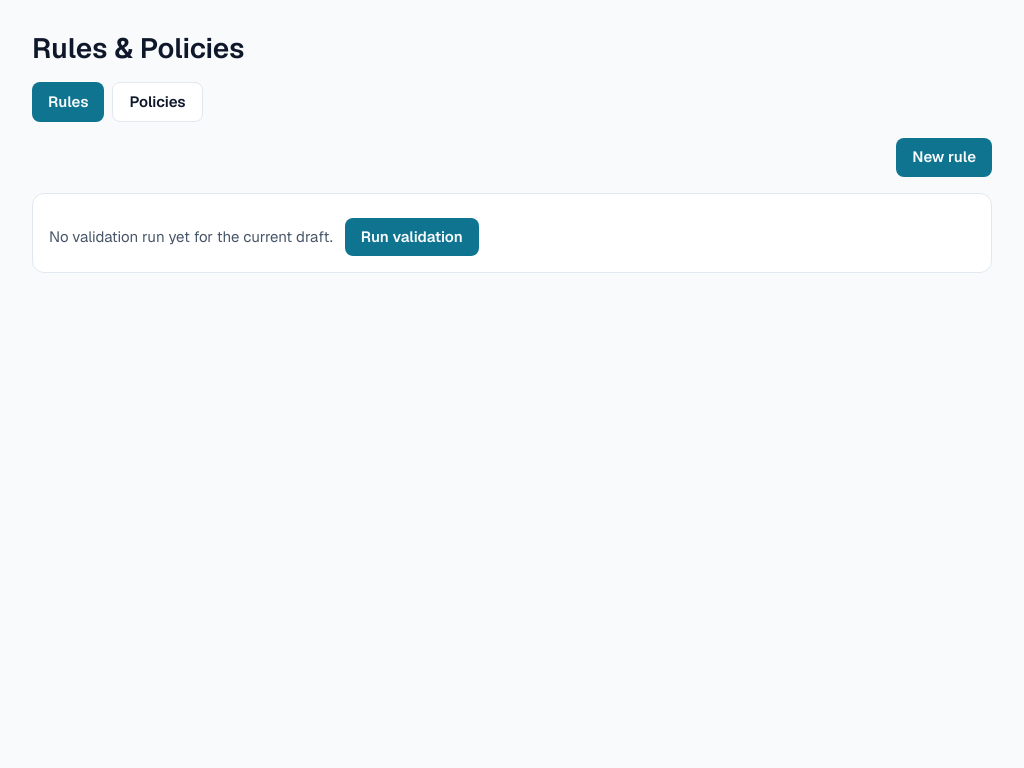
CeRulesPage › switches to the Policies tab, lists policies and opens the attach picker
The width and height of the screenshot is (1024, 768).
Check: the text "No validation run yet for the current draft." is shown, box [49,226,333,248]
Click the tab "Policies" at point(158, 102), box [112,82,203,122]
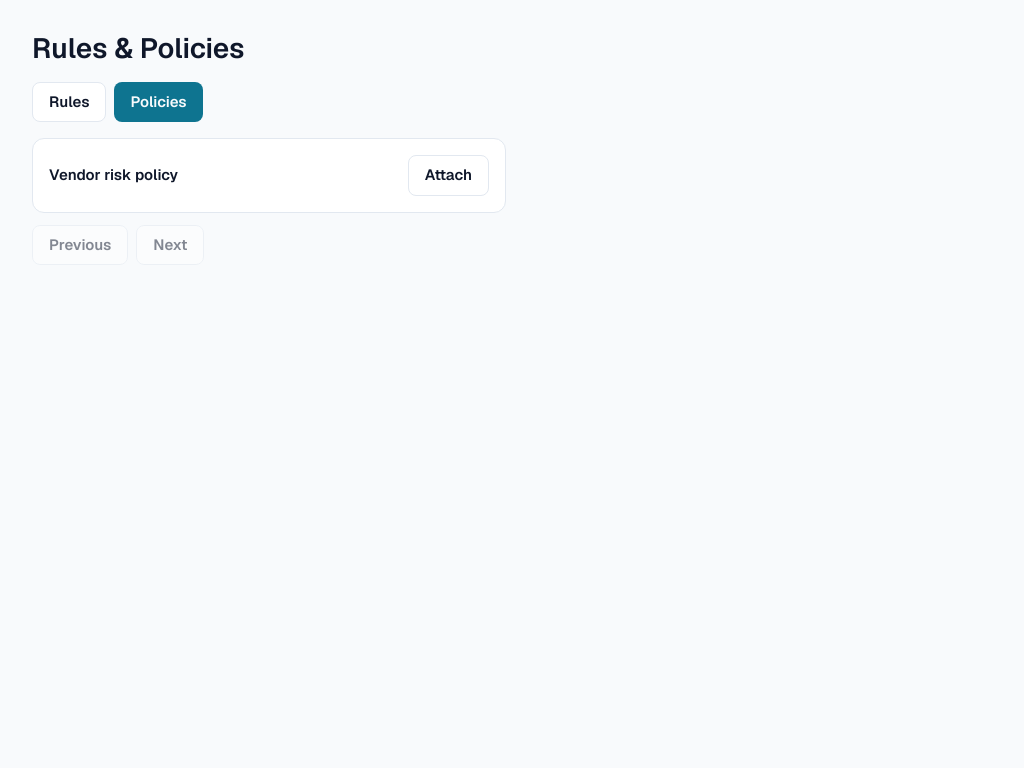
Check: the text "Vendor risk policy" is shown, box [49,164,178,187]
Click the button "Attach" at point(448, 175), box [408,155,489,196]
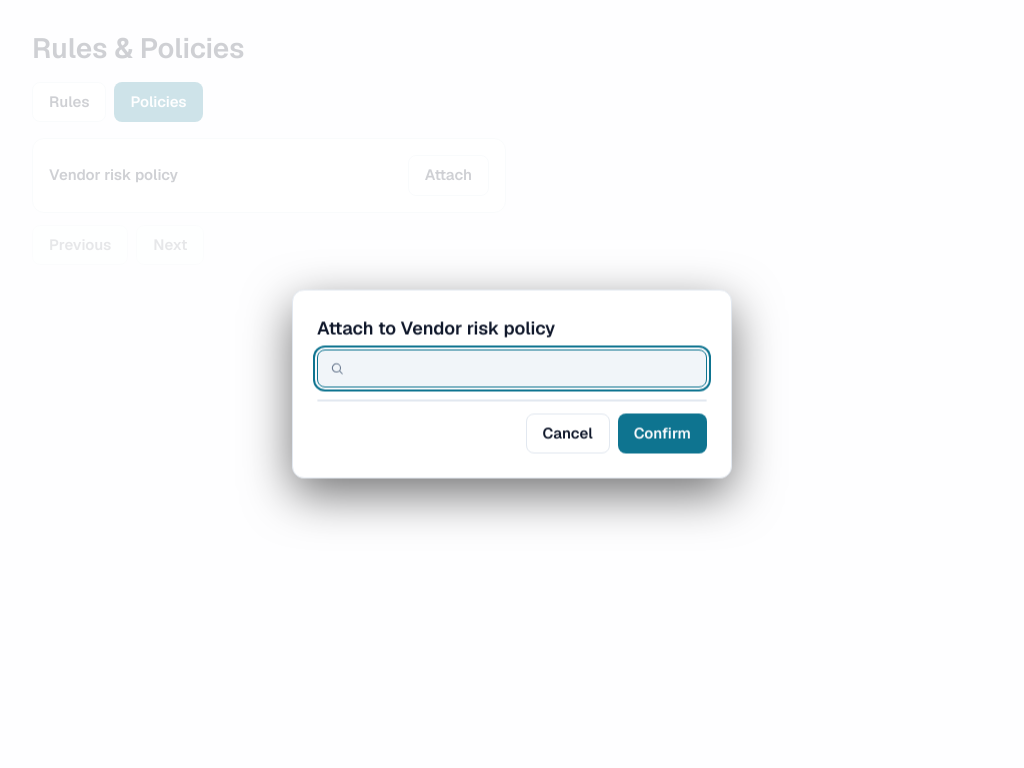
Check: the heading "Attach to Vendor risk policy" is shown, box [317,316,555,340]
